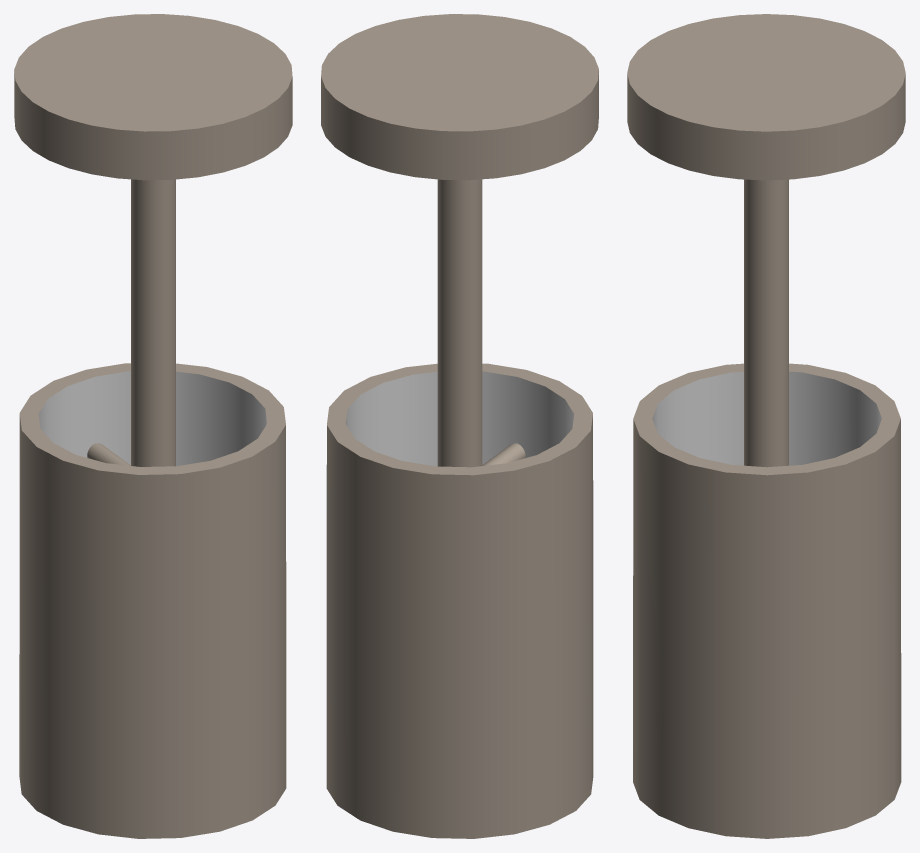
Rendered from Spot1_4.fbx.
3 renders of one model, left to right at view 1: azimuth 30°, elevation 25°; view 2: azimuth 150°, elevation 25°; view 3: azimuth 270°, elevation 25°, orthographic.
Visible parts, largest first — view 1: pPipe119, pCylinder779, pCylinder781; view 2: pPipe119, pCylinder779, pCylinder781; view 3: pPipe119, pCylinder779, pCylinder781.
Boxes of the visible parts, bbox=[...] form: pPipe119: bbox=[19, 363, 286, 838]; pCylinder779: bbox=[14, 14, 292, 180]; pCylinder781: bbox=[131, 179, 175, 466]; pPipe119: bbox=[326, 363, 593, 838]; pCylinder779: bbox=[321, 14, 598, 180]; pCylinder781: bbox=[437, 179, 482, 467]; pPipe119: bbox=[633, 363, 901, 838]; pCylinder779: bbox=[627, 14, 905, 180]; pCylinder781: bbox=[744, 179, 788, 467].
Bounding box in the file's own units: 5.06 × 14.22 × 5.06.
